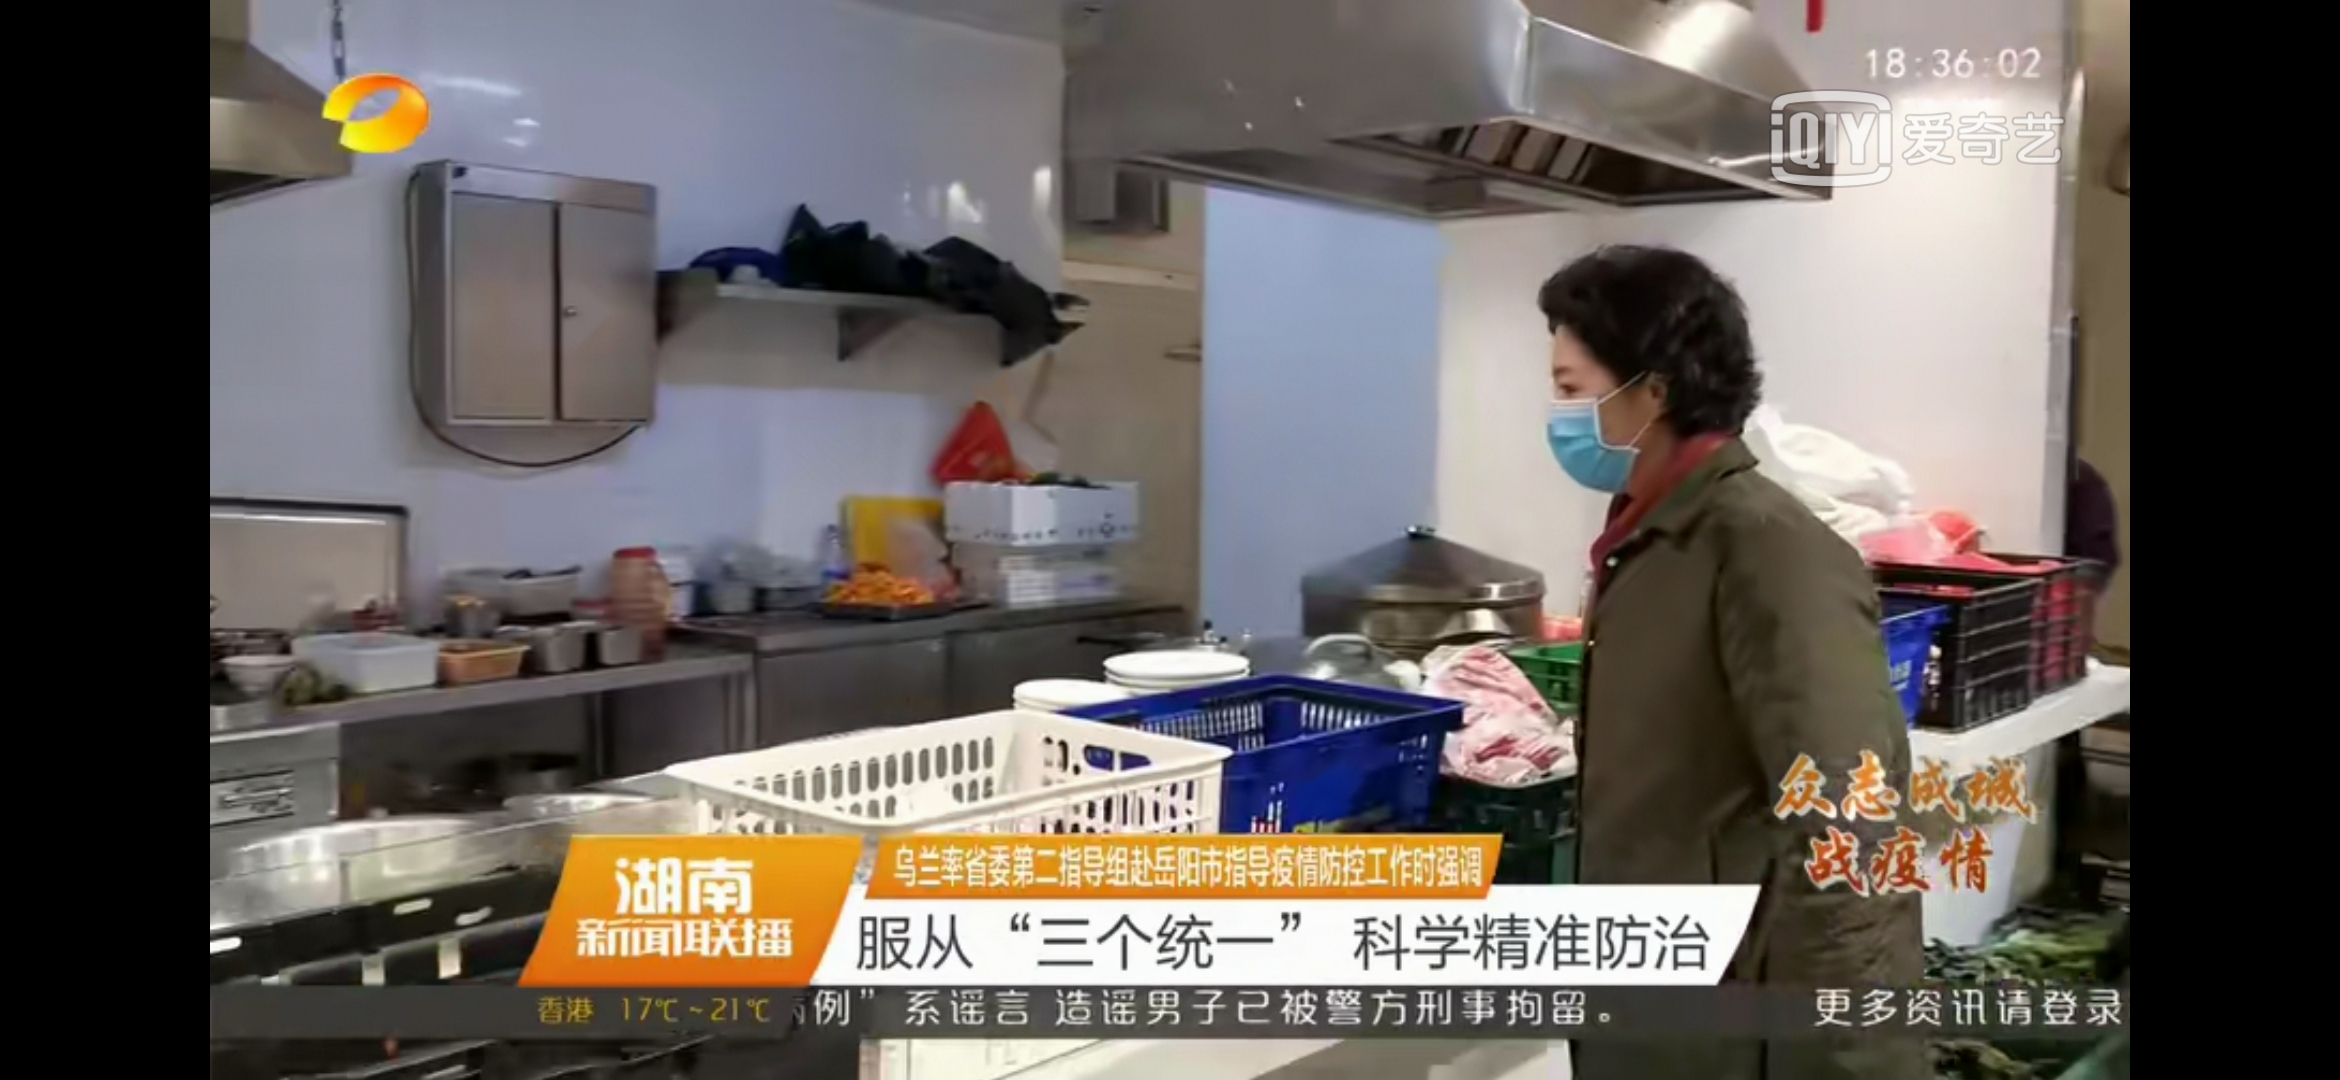correctlyWear: (1537, 337, 1677, 495)
